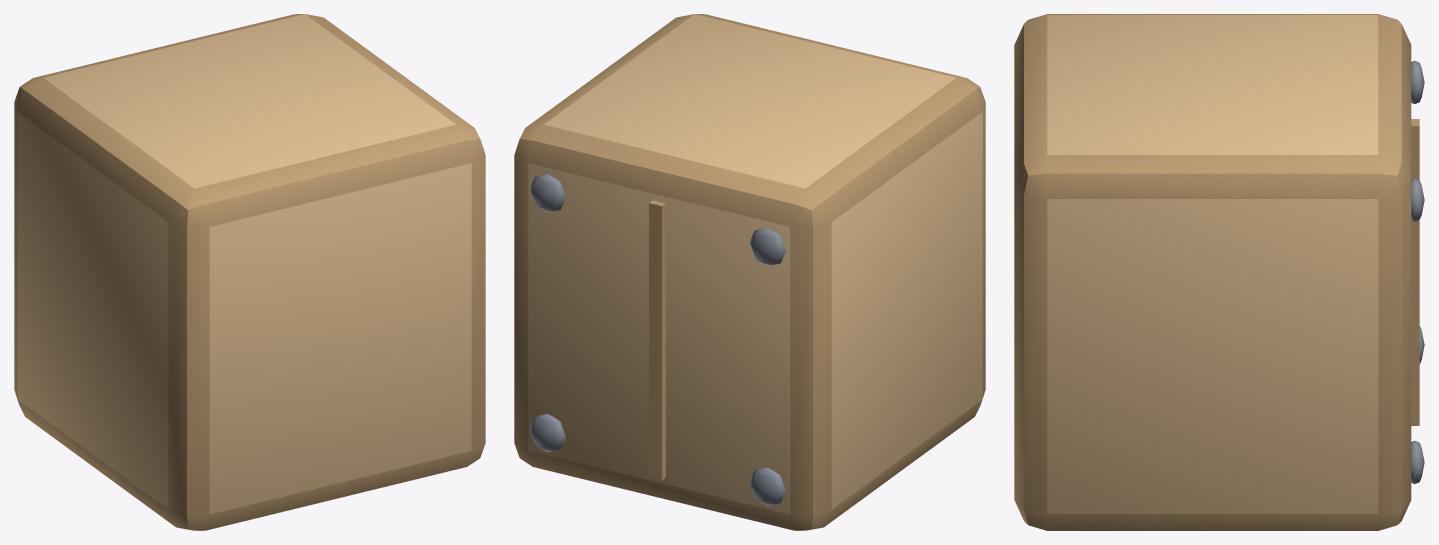
The model's file is CubeSmallWood.fbx.
The picture shows the model from 3 angles, left to right: view 1: azimuth 30°, elevation 25°; view 2: azimuth 150°, elevation 25°; view 3: azimuth 270°, elevation 25°; orthographic projection. The views are drawn at different scales.
Parts seen in each view (by area): view 1: CubeSmallWood; view 2: CubeSmallWood; view 3: CubeSmallWood.
Part boxes in pixels (x1,y1,x2,y2): CubeSmallWood: [14, 14, 485, 530]; CubeSmallWood: [514, 14, 985, 530]; CubeSmallWood: [1014, 14, 1424, 530].
Size of the model in its own units: 1.2 by 1.25 by 1.24.
